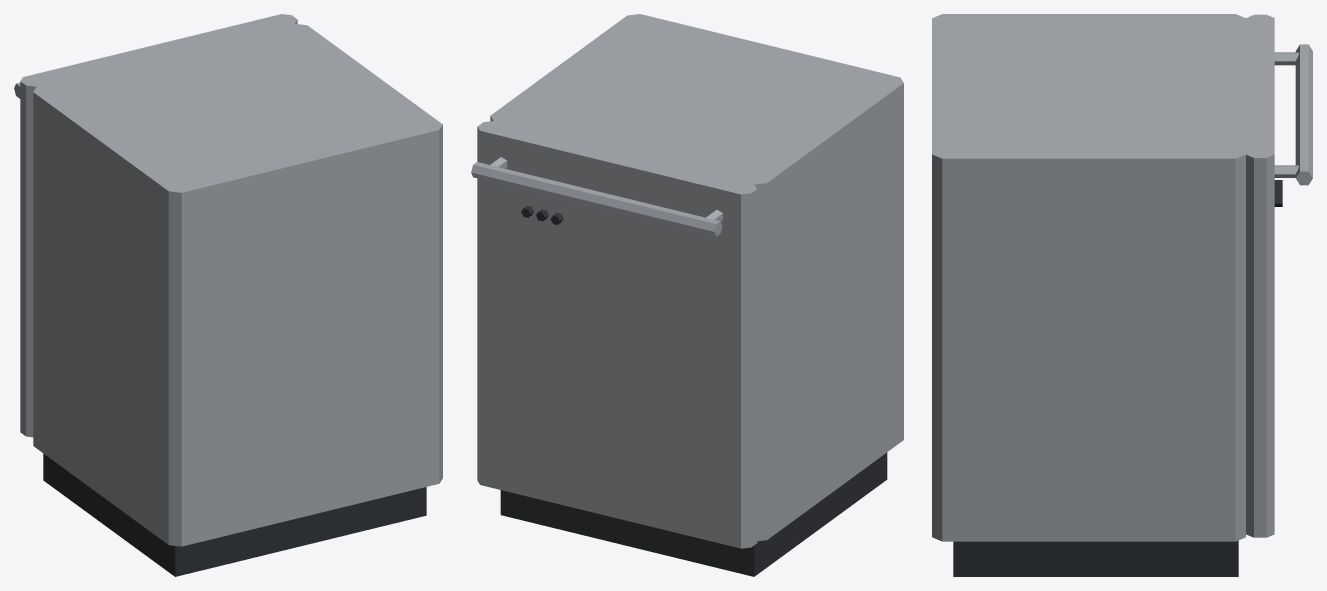
Rendered from SM_LPI_Appl_Dishwasher_01.fbx.
3 views of the same model, side by side, from view 1: azimuth 30°, elevation 25°; view 2: azimuth 150°, elevation 25°; view 3: azimuth 270°, elevation 25° (orthographic). The views are drawn at different scales.
Parts seen in each view (by area): view 1: SM_LPI_Appl_Dishwasher_01; view 2: SM_LPI_Appl_Dishwasher_01; view 3: SM_LPI_Appl_Dishwasher_01.
Part boxes in pixels (left/top/right/bottom): SM_LPI_Appl_Dishwasher_01: left=14, top=14, right=442, bottom=576; SM_LPI_Appl_Dishwasher_01: left=471, top=14, right=903, bottom=576; SM_LPI_Appl_Dishwasher_01: left=932, top=14, right=1312, bottom=576.
Bounding box in the file's own units: 0.6 × 0.82 × 0.667.
